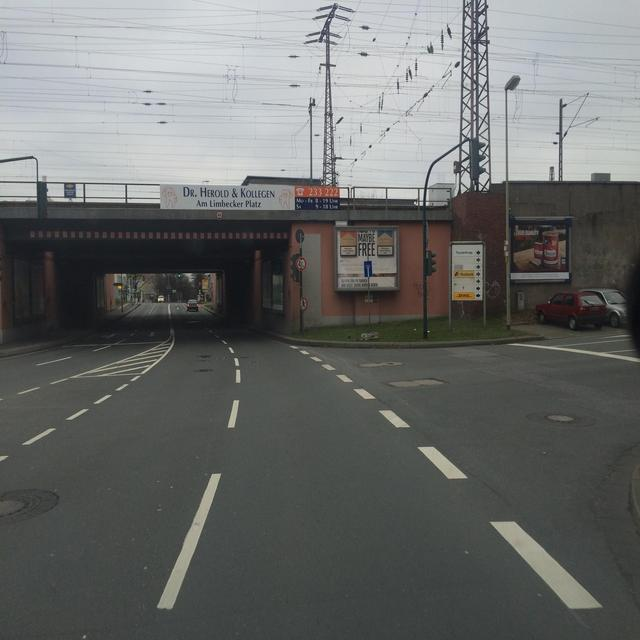Billboard: (160, 184, 398, 291), (504, 213, 574, 283), (64, 182, 75, 196), (202, 279, 208, 289)
Car: (534, 288, 625, 330), (157, 295, 197, 311)
Manhole: (355, 361, 441, 386), (0, 499, 26, 516), (546, 415, 573, 420)
Vegetation: (133, 273, 209, 301)
